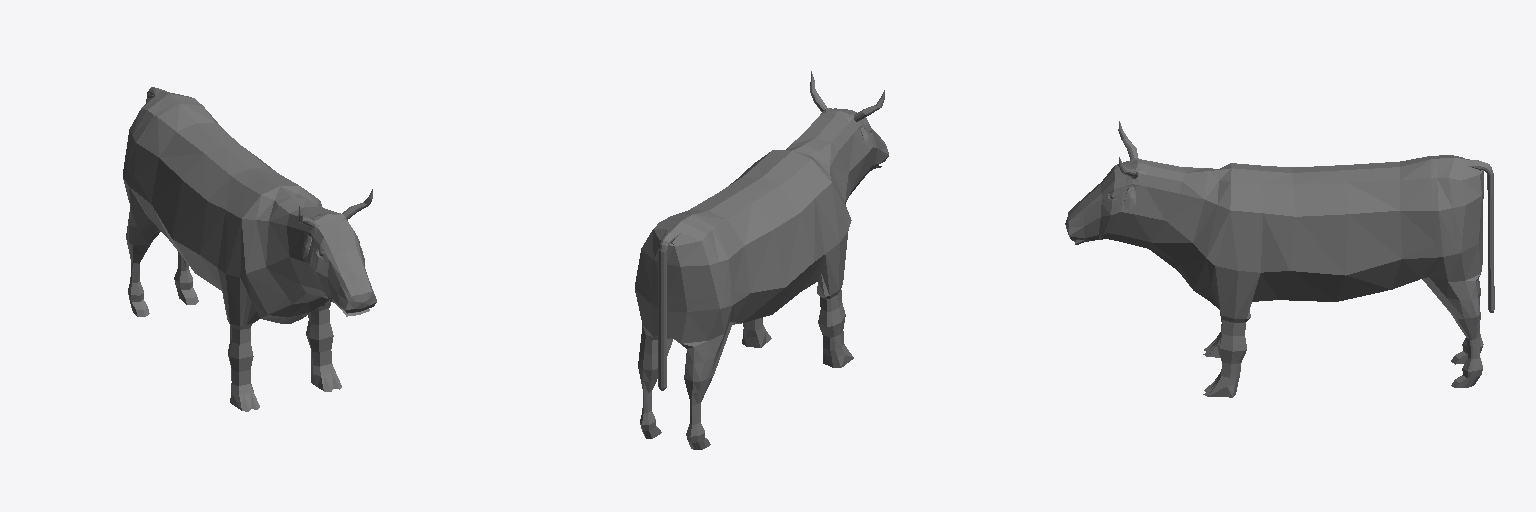
The model's file is Toro.obj.
The picture shows the model from 3 angles: view 1: azimuth 30°, elevation 25°; view 2: azimuth 150°, elevation 25°; view 3: azimuth 270°, elevation 25°; orthographic projection.
Visible parts, largest first — view 1: Mesh; view 2: Mesh; view 3: Mesh.
Boxes of the visible parts, <box> form: Mesh: <box>123,87,376,411</box>; Mesh: <box>635,71,888,449</box>; Mesh: <box>1065,121,1494,397</box>.
Size of the model in its own units: 4.01 by 8.79 by 14.55.